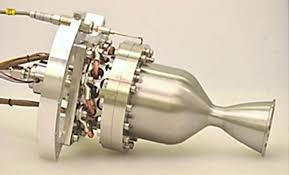thruster: (197, 73, 277, 157)
